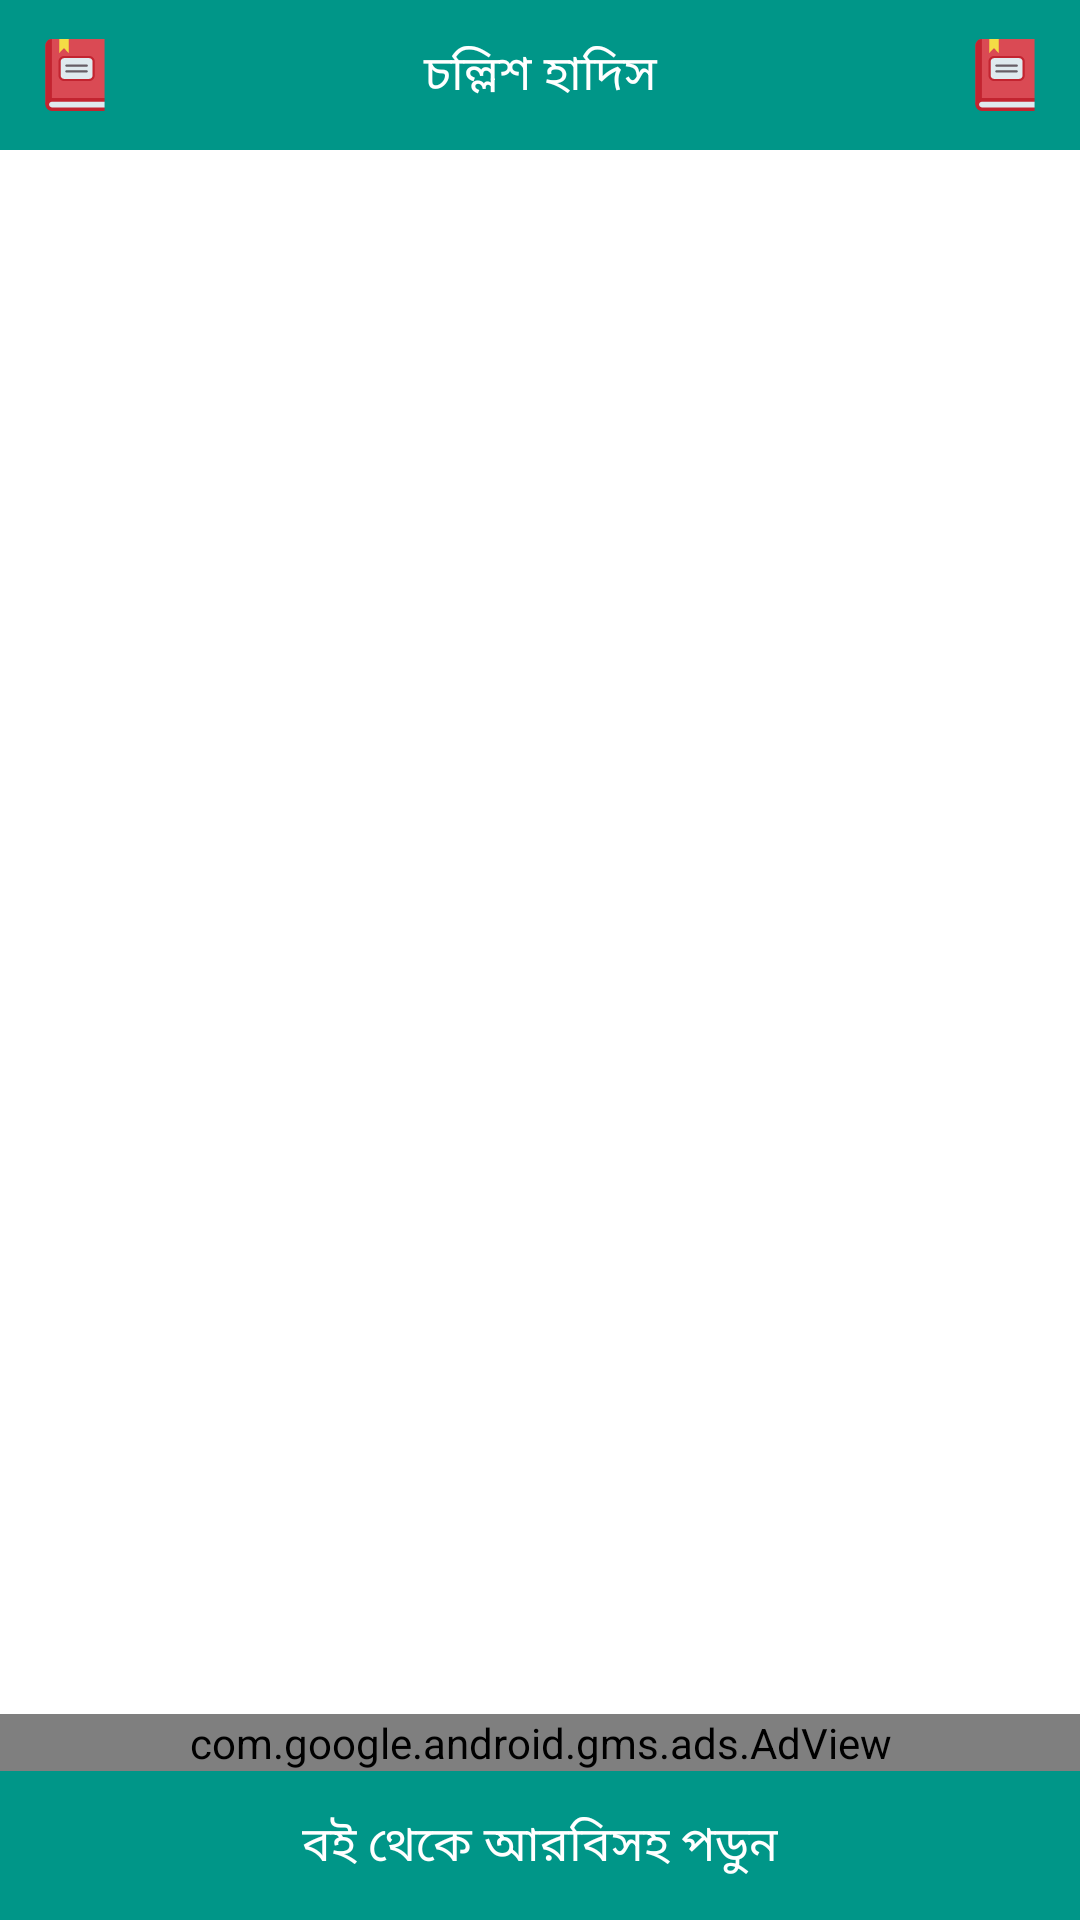

Locate icon controls on the screen. Image size 1080px×1920px, boxes as (x1, y1, x2, y2).
book: (45, 39, 105, 111), (975, 39, 1035, 111)
